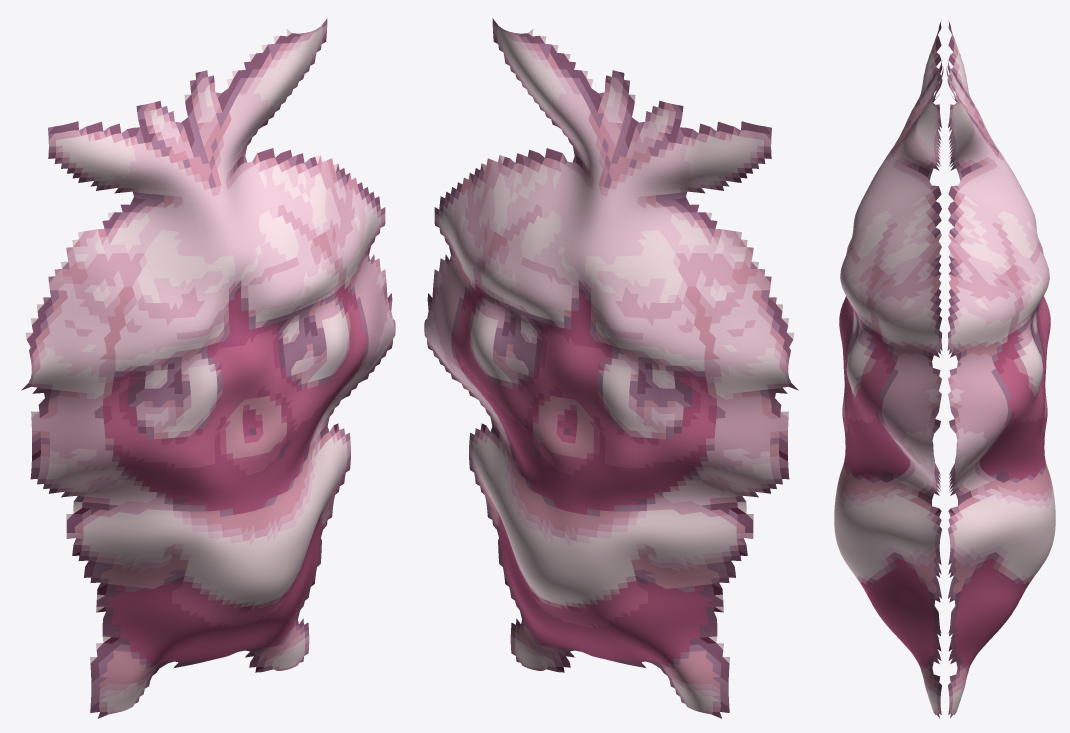
The model's file is onnurismoochum.glb.
The picture shows the model from 3 angles, left to right: view 1: azimuth 30°, elevation 25°; view 2: azimuth 150°, elevation 25°; view 3: azimuth 270°, elevation 25°; orthographic projection.
Visible parts, largest first — view 1: onnurismoochum; view 2: onnurismoochum; view 3: onnurismoochum.
Part boxes in pixels (<box>): onnurismoochum: <box>21,18,395,718</box>; onnurismoochum: <box>424,18,798,718</box>; onnurismoochum: <box>834,21,1055,718</box>.
Bounding box in the file's own units: 597 × 987 × 314.
